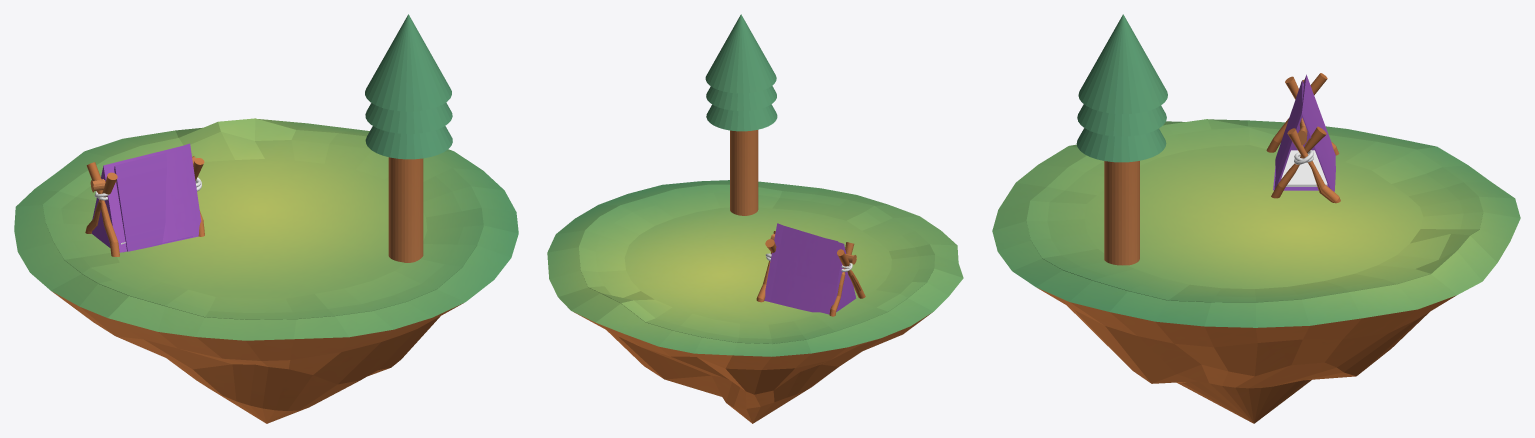
Rendered from ile.glb.
The picture shows the model from 3 angles, left to right: view 1: azimuth 30°, elevation 25°; view 2: azimuth 150°, elevation 25°; view 3: azimuth 270°, elevation 25°; orthographic projection. The views are drawn at different scales.
Visible parts, largest first — view 1: Cylinder, Cylindre.005, Cone.003, Cylinder.006, Cone.001, Cone.002, Cylindre.004; view 2: Cylinder, Cylindre.005, Cone.003, Cylinder.006, Cone.001, Cone.002; view 3: Cylinder, Cone.003, Cylinder.006, Cylindre.005, Cone.001, Cone.002, Cube, Cylindre, Cylindre.002.
Boxes of the visible parts, x1,y1,x2,y2 form: Cylinder: (14,118,518,423); Cylindre.005: (91,143,201,252); Cone.003: (365,14,451,111); Cylinder.006: (388,157,423,262); Cone.001: (365,126,452,159); Cone.002: (365,102,452,133); Cylindre.004: (86,162,119,256); Cylinder: (547,180,963,423); Cylindre.005: (764,223,856,314); Cone.003: (705,14,776,93); Cylinder.006: (730,130,758,215); Cone.001: (706,104,777,131); Cone.002: (706,86,776,110); Cylinder: (992,119,1520,423); Cone.003: (1078,14,1167,114); Cylinder.006: (1104,161,1139,265); Cylindre.005: (1274,74,1335,191); Cone.001: (1076,128,1166,162); Cone.002: (1077,104,1166,136); Cube: (1281,150,1327,186); Cylindre: (1287,128,1340,203); Cylindre.002: (1271,126,1326,198).
Bounding box in the file's own units: 9.05 × 8.67 × 9.25.
9 materials, 9 textured.
